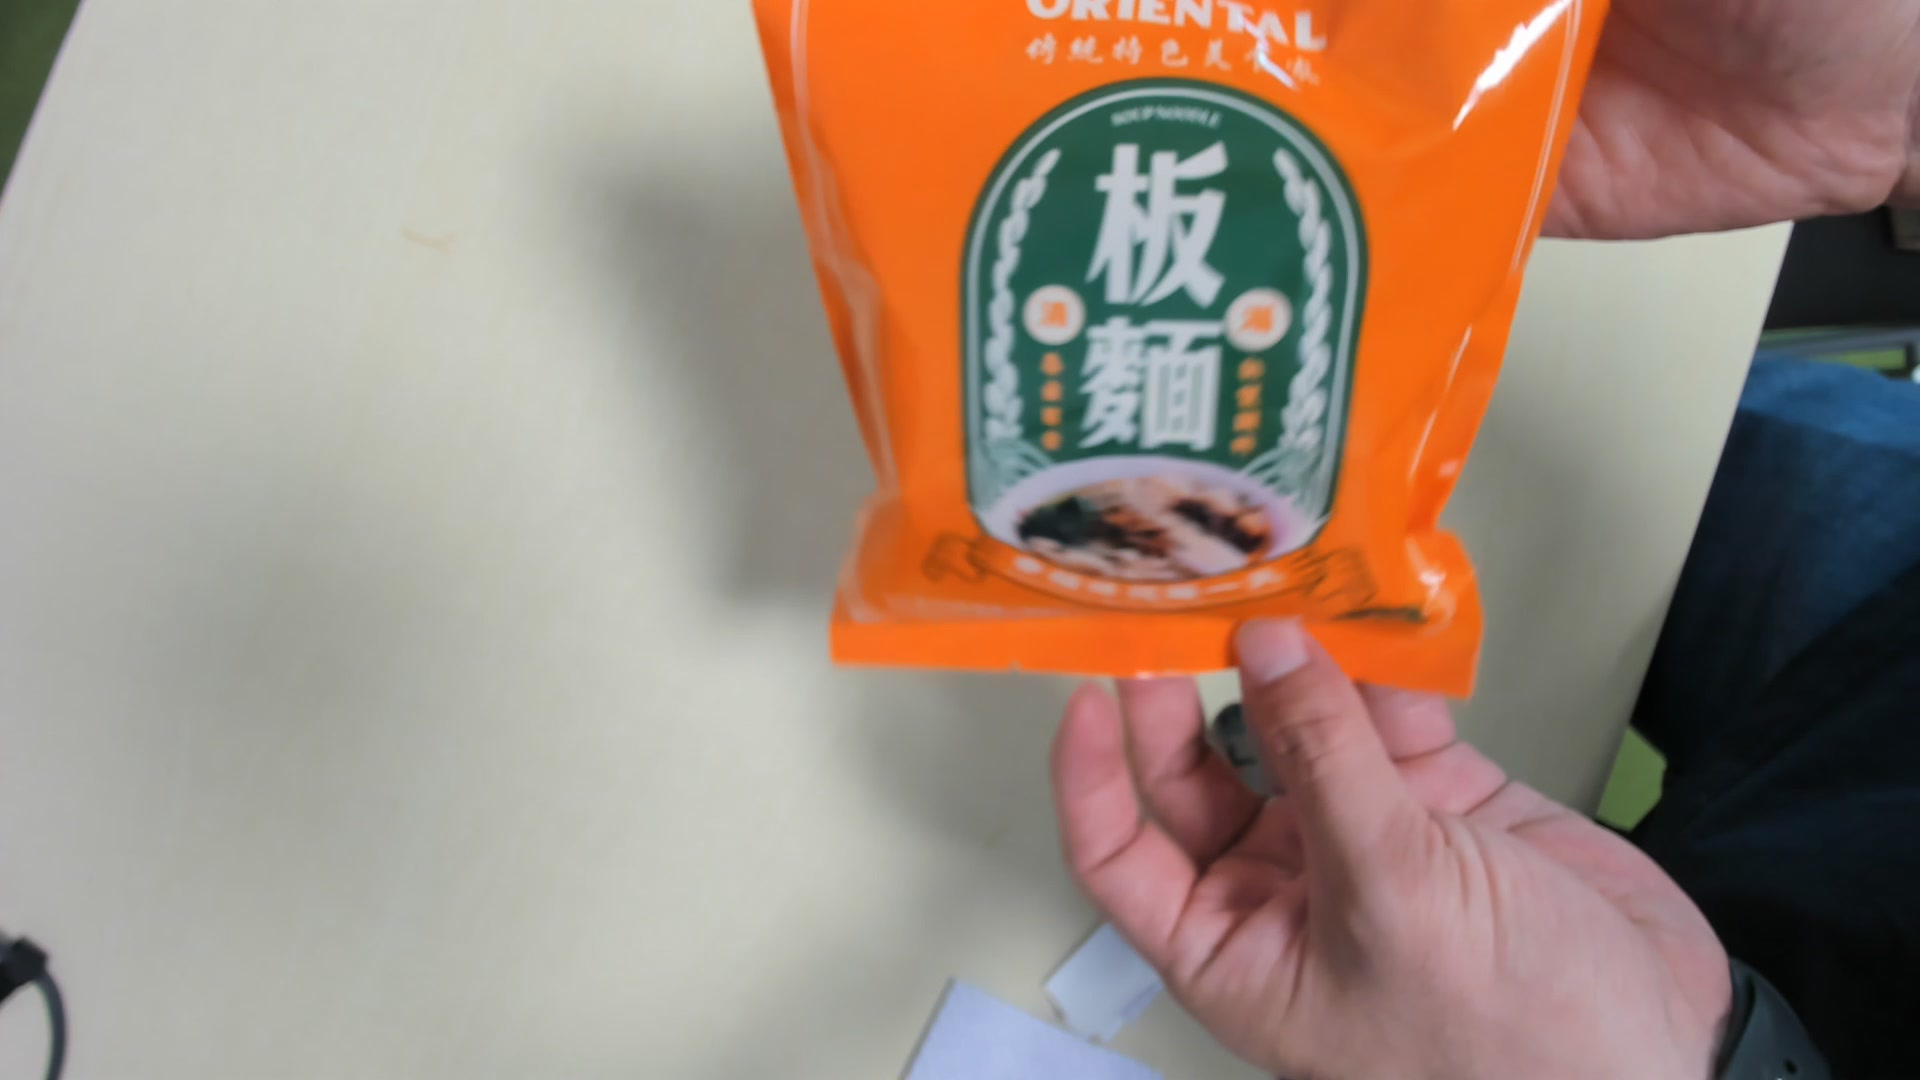InstantMeals_100-199g_NonHalal_Healthy: (756, 3, 1586, 696)
